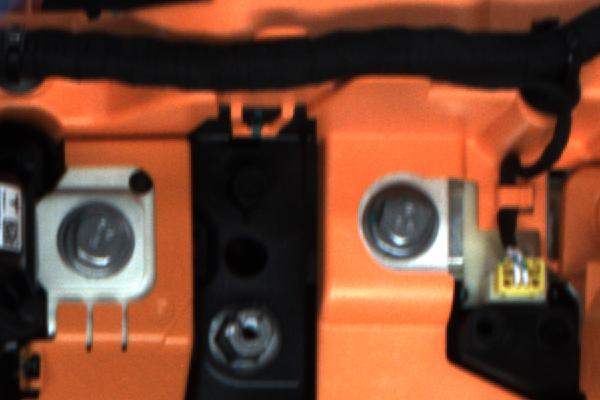nut_b: (358, 173, 440, 267), (53, 199, 137, 286)
